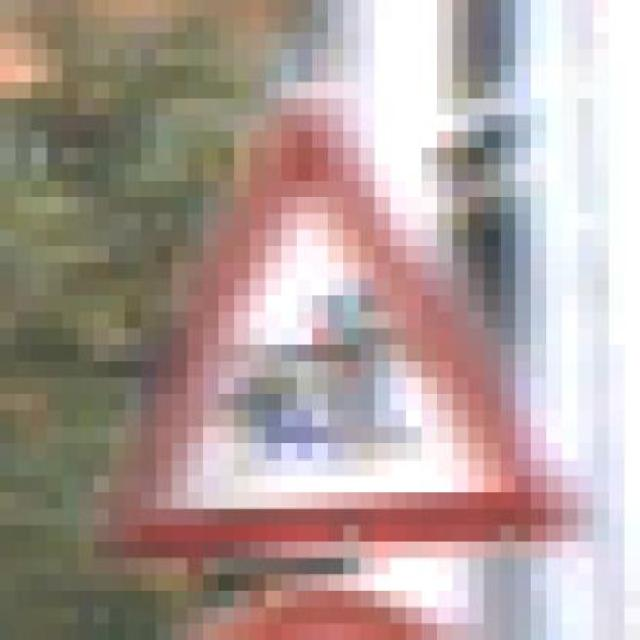Beware of children: (77, 66, 608, 574)
